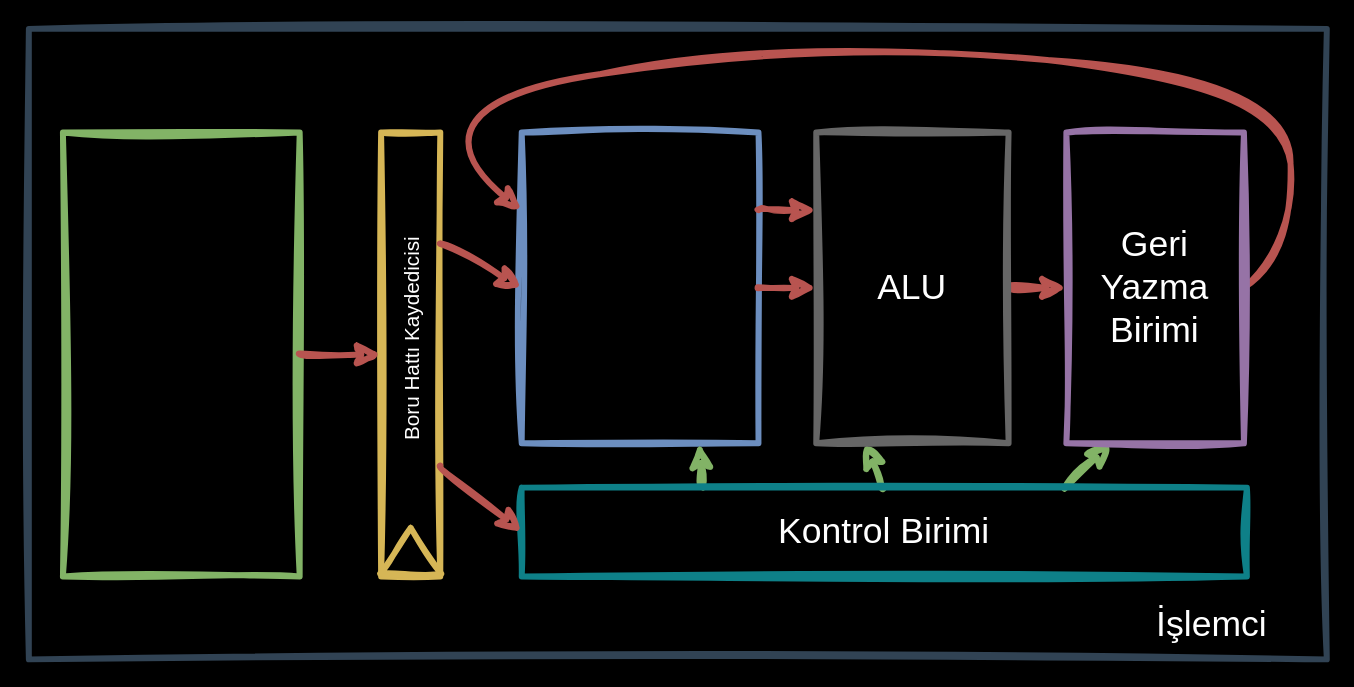
Some shapes in this 1354 by 687 pixel diagram are drawn without their labels. The shapes that lost their labels are listed below. From the top down, each one's centre as x and y in pixels, then its label:
the point at 639,287: Çözme Birimi
the point at 180,354: Getirme Birimi
